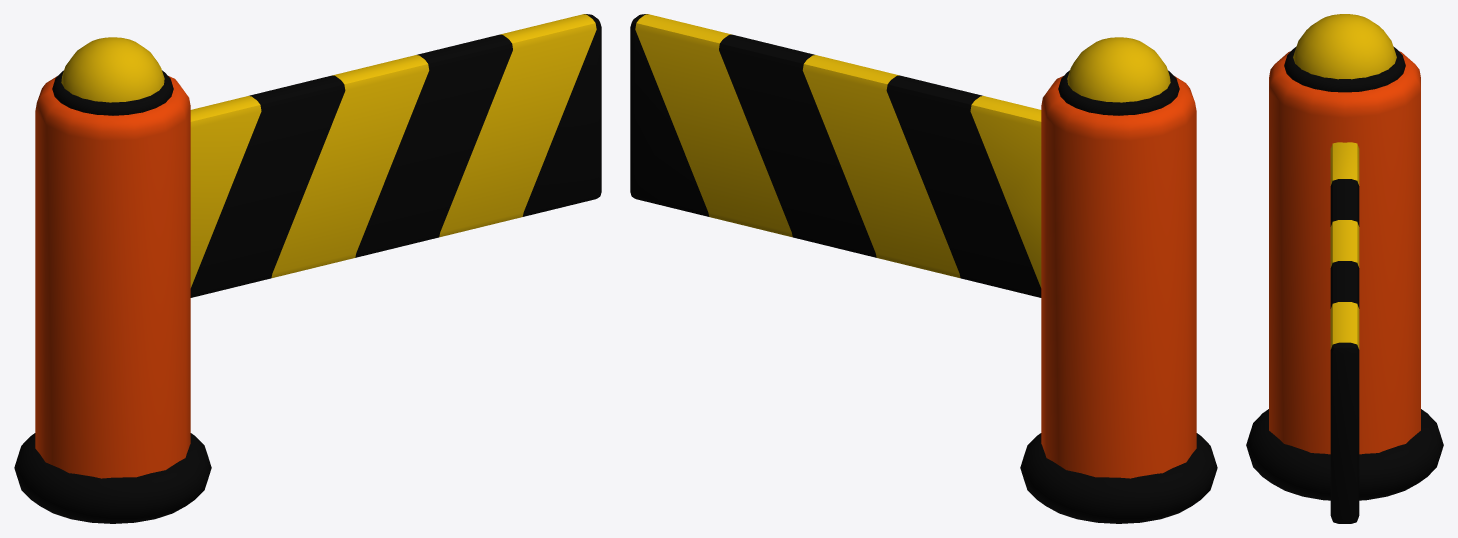
Rendered from Hgs3.fbx.
3 views of the same model, side by side, from view 1: azimuth 30°, elevation 25°; view 2: azimuth 150°, elevation 25°; view 3: azimuth 270°, elevation 25° (orthographic).
Visible parts, largest first — view 1: Box014, Cylinder004, Torus001, Light, Torus002; view 2: Box014, Cylinder004, Torus001, Light, Torus002; view 3: Cylinder004, Box014, Torus001, Light, Torus002.
Part boxes in pixels (<box>): Box014: <box>190,14,601,297</box>; Cylinder004: <box>35,76,190,478</box>; Torus001: <box>14,433,211,523</box>; Light: <box>61,37,164,102</box>; Torus002: <box>52,70,173,115</box>; Box014: <box>630,14,1041,297</box>; Cylinder004: <box>1041,76,1196,478</box>; Torus001: <box>1020,433,1217,523</box>; Light: <box>1067,37,1170,102</box>; Torus002: <box>1058,70,1179,115</box>; Cylinder004: <box>1269,51,1420,454</box>; Box014: <box>1330,142,1359,523</box>; Torus001: <box>1246,409,1443,500</box>; Light: <box>1293,14,1396,79</box>; Torus002: <box>1284,46,1405,92</box>.
Size of the model in its own units: 1.58 by 1.19 by 0.4729.
